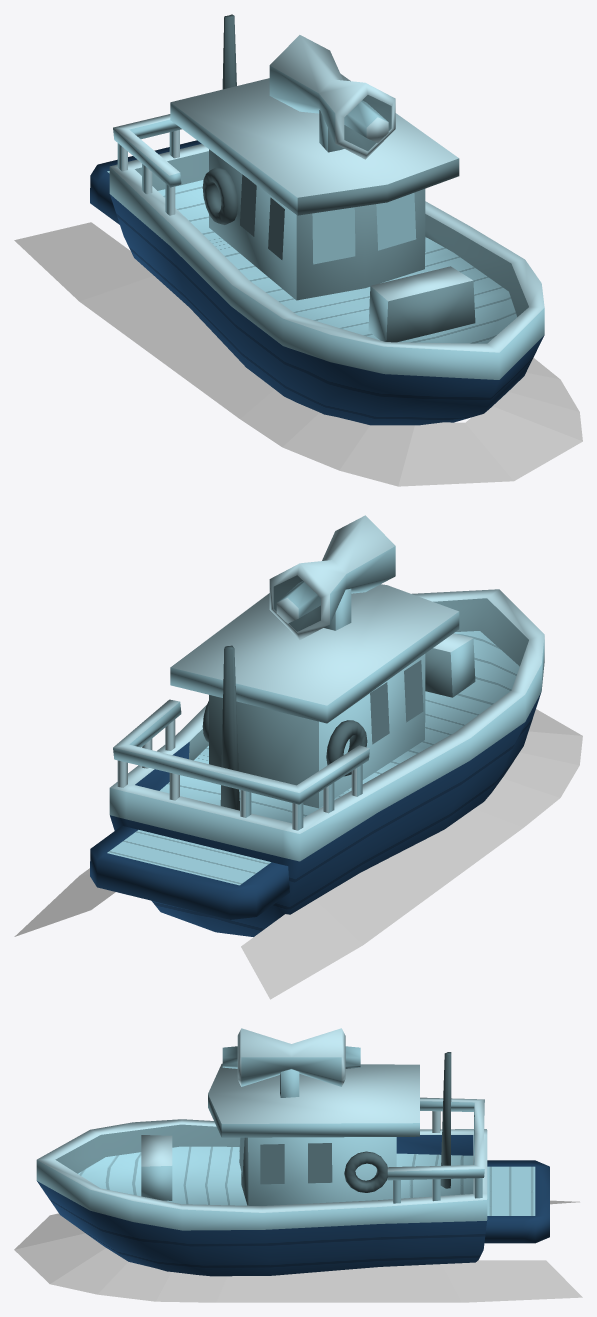
Rendered from enemyboat.fbx.
3 views of the same model, one above another, from view 1: azimuth 30°, elevation 25°; view 2: azimuth 150°, elevation 25°; view 3: azimuth 270°, elevation 25° (orthographic). The views are drawn at different scales.
Visible parts, largest first — view 1: boat, boatRiple; view 2: boat, boatRiple; view 3: boat, boatRiple.
Boxes of the visible parts, left/top/right/bottom form: boat: left=90, top=14, right=544, bottom=425; boatRiple: left=14, top=222, right=582, bottom=486; boat: left=90, top=515, right=544, bottom=936; boatRiple: left=14, top=709, right=582, bottom=999; boat: left=36, top=1028, right=549, bottom=1276; boatRiple: left=14, top=1200, right=582, bottom=1302.
Size of the model in its own units: 2.47 by 2.57 by 5.61.
